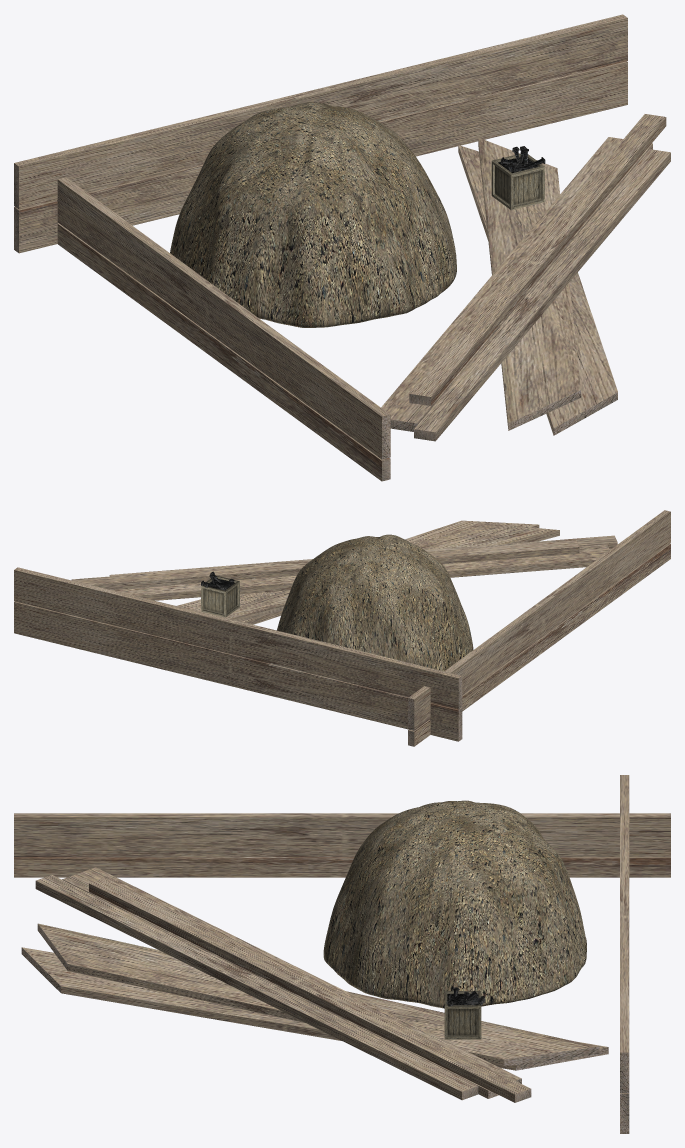
The model's file is planterunfinished.dae.
The picture shows the model from 3 angles, top to bottom: view 1: azimuth 30°, elevation 25°; view 2: azimuth 150°, elevation 25°; view 3: azimuth 270°, elevation 25°; orthographic projection. The views are drawn at different scales.
Visible parts, largest first — view 1: dirt_pile_Cylindre, plank_07_Cube_010, plank_09_Cube_013, plank_06_Cube_009, top_1_Cube_016, plank_05_Cube_007, plank_03_Cube_004, plank_08_Cube_011, plank_04_Cube_006, top_4_Cube_023, Nails_crate_Nails_Pile_002; view 2: dirt_pile_Cylindre, plank_07_Cube_010, plank_06_Cube_009, plank_09_Cube_013, plank_05_Cube_007, plank_04_Cube_006, plank_08_Cube_011, top_1_Cube_016, plank_03_Cube_004, Nails_crate_Nails_Pile_002, top_4_Cube_023; view 3: dirt_pile_Cylindre, plank_09_Cube_013, top_1_Cube_016, plank_03_Cube_004, plank_05_Cube_007, plank_08_Cube_011, top_4_Cube_023, plank_04_Cube_006, plank_07_Cube_010, Nails_crate_Nails_Pile_002.
Boxes of the visible parts, <box> form: dirt_pile_Cylindre: <box>170,102,456,327</box>; plank_07_Cube_010: <box>14,14,627,209</box>; plank_09_Cube_013: <box>57,177,390,459</box>; plank_06_Cube_009: <box>14,61,627,253</box>; top_1_Cube_016: <box>478,137,580,430</box>; plank_05_Cube_007: <box>409,114,666,405</box>; plank_03_Cube_004: <box>414,149,670,441</box>; plank_08_Cube_011: <box>57,223,390,481</box>; plank_04_Cube_006: <box>381,137,652,431</box>; top_4_Cube_023: <box>458,145,617,435</box>; Nails_crate_Nails_Pile_002: <box>491,153,544,210</box>; dirt_pile_Cylindre: <box>277,534,473,671</box>; plank_07_Cube_010: <box>14,567,462,709</box>; plank_06_Cube_009: <box>14,601,462,741</box>; plank_09_Cube_013: <box>408,510,670,730</box>; plank_05_Cube_007: <box>71,540,579,589</box>; plank_04_Cube_006: <box>111,544,609,600</box>; plank_08_Cube_011: <box>408,543,670,746</box>; top_1_Cube_016: <box>177,523,559,621</box>; plank_03_Cube_004: <box>109,535,617,576</box>; Nails_crate_Nails_Pile_002: <box>201,575,239,617</box>; top_4_Cube_023: <box>241,520,539,624</box>; dirt_pile_Cylindre: <box>323,800,586,1008</box>; plank_09_Cube_013: <box>14,813,670,857</box>; top_1_Cube_016: <box>37,923,599,1066</box>; plank_03_Cube_004: <box>35,875,478,1100</box>; plank_05_Cube_007: <box>89,877,531,1102</box>; plank_08_Cube_011: <box>14,857,670,877</box>; top_4_Cube_023: <box>21,947,608,1070</box>; plank_04_Cube_006: <box>62,867,521,1098</box>; plank_07_Cube_010: <box>620,775,629,1092</box>; Nails_crate_Nails_Pile_002: <box>444,991,481,1039</box>.
Size of the model in its own units: 3.68 by 3.68 by 0.9098.
5 materials, 5 textured.
